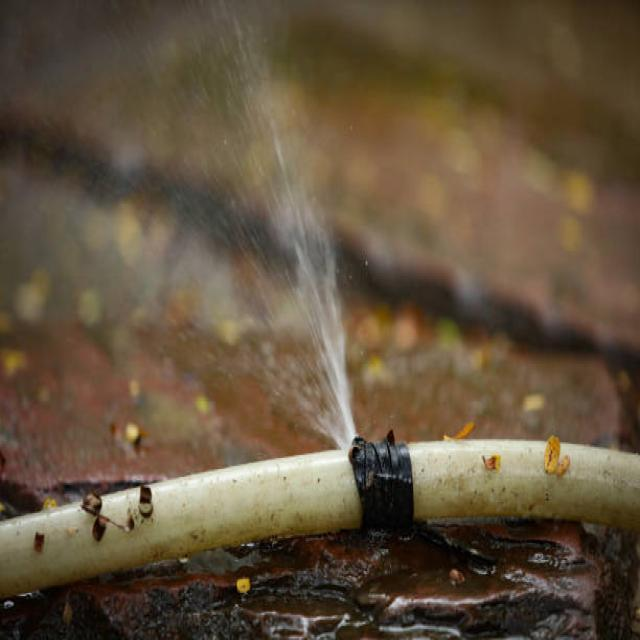pipe burst: (138, 8, 366, 457)
